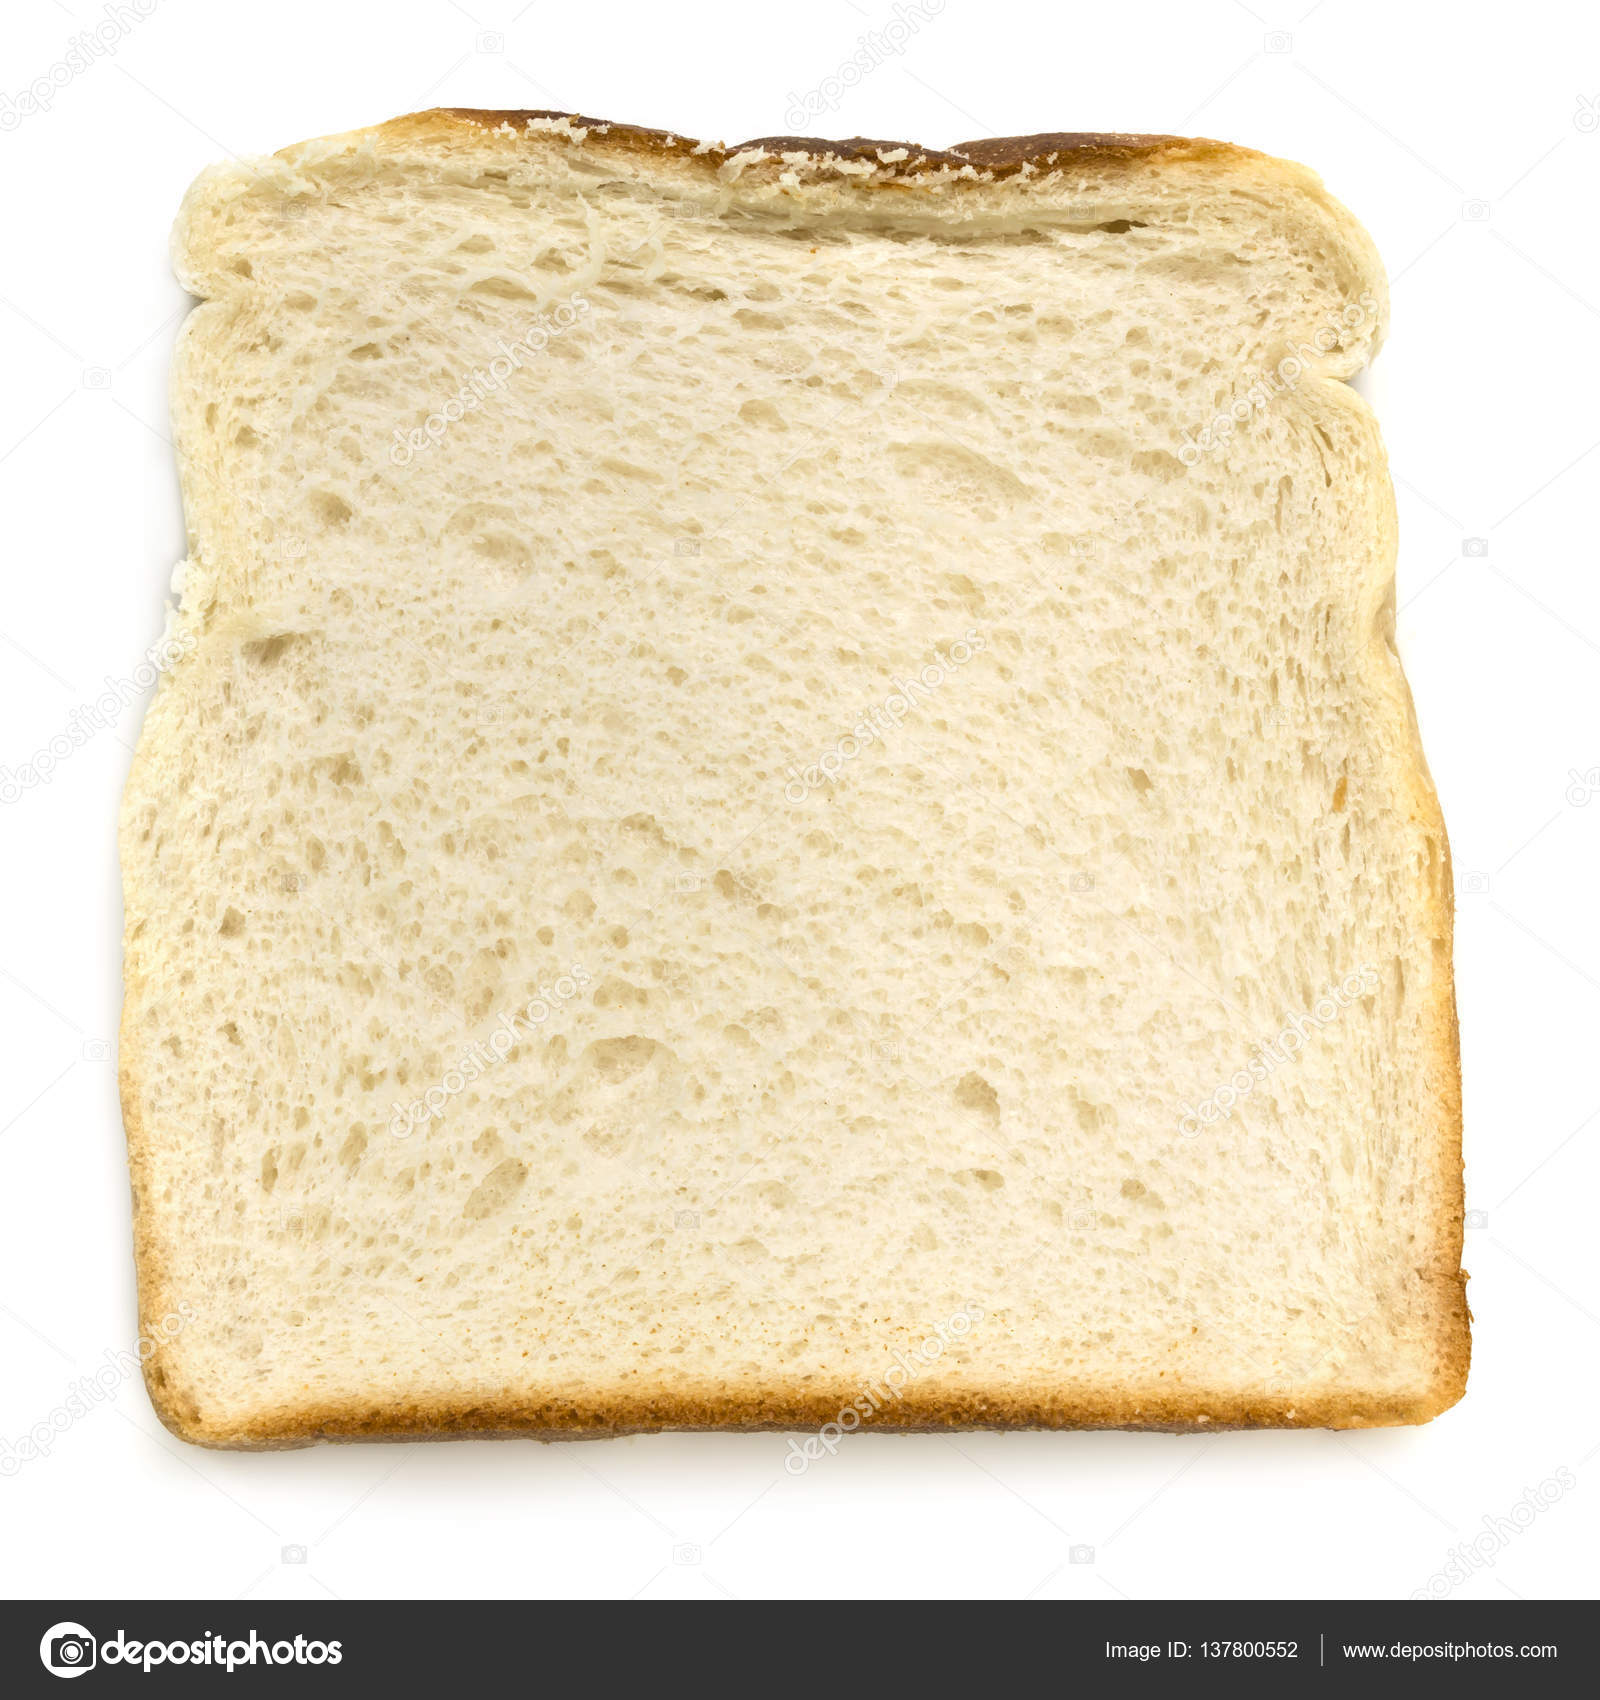slice of bread: (156, 194, 1477, 1434)
